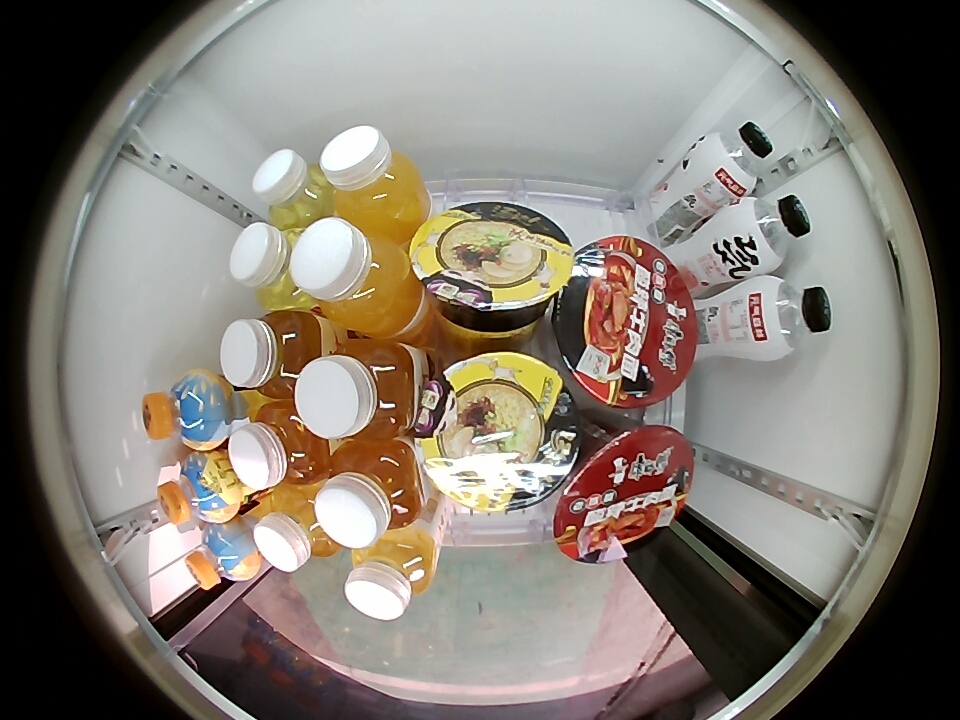chapai: (295, 342, 421, 440), (314, 440, 424, 549), (220, 311, 330, 398), (228, 402, 333, 491)
chapai2: (345, 526, 439, 621), (253, 483, 344, 573), (230, 223, 321, 312), (253, 149, 337, 232)
guolicheng: (142, 370, 228, 450), (157, 450, 241, 526), (186, 519, 258, 592)
suanlaniurou: (551, 236, 697, 409), (553, 426, 694, 560)
tangdaren2: (418, 350, 582, 512), (411, 201, 574, 336)
weic: (292, 217, 424, 337), (320, 126, 430, 239)
yuanqishui: (747, 275, 832, 359), (727, 193, 812, 273), (696, 121, 775, 198)
